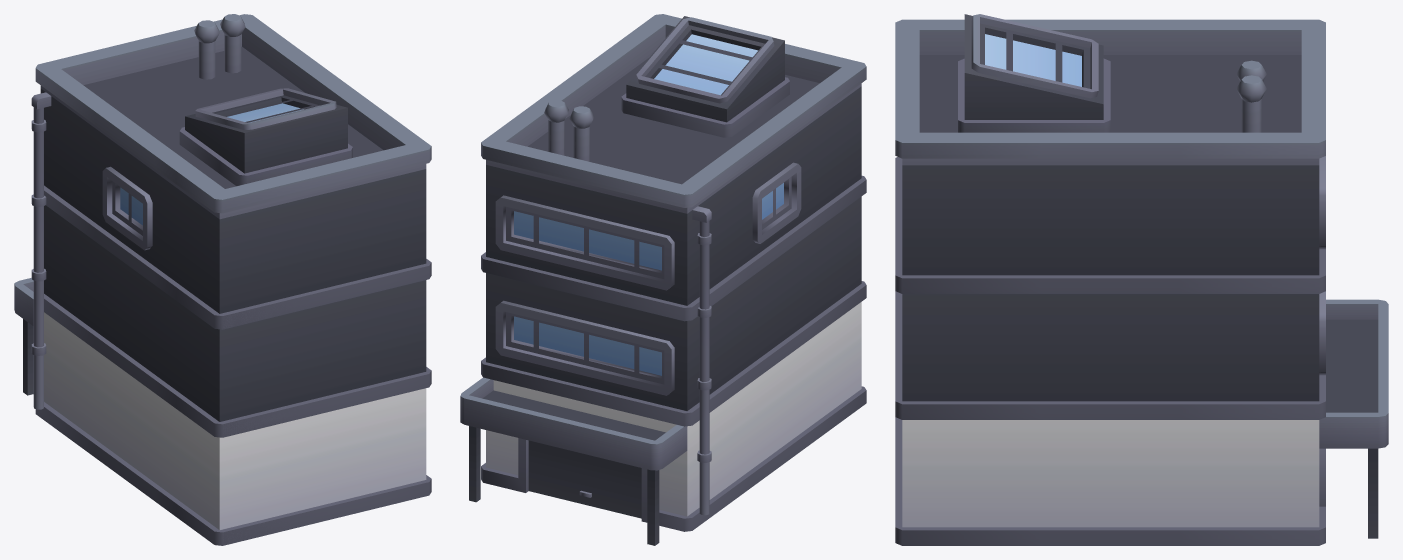
File: k-city-kit-industrial-building-d.glb
3 views of the same model, side by side, from view 1: azimuth 30°, elevation 25°; view 2: azimuth 150°, elevation 25°; view 3: azimuth 270°, elevation 25° (orthographic). The views are drawn at different scales.
Visible parts, largest first — view 1: building-d; view 2: building-d; view 3: building-d.
Part boxes in pixels (bbox=[...]): building-d: bbox=[14, 14, 431, 545]; building-d: bbox=[460, 14, 866, 545]; building-d: bbox=[895, 14, 1388, 545].
Size of the model in its own units: 0.8836 by 1.41 by 1.42.
1 material, 1 textured.
